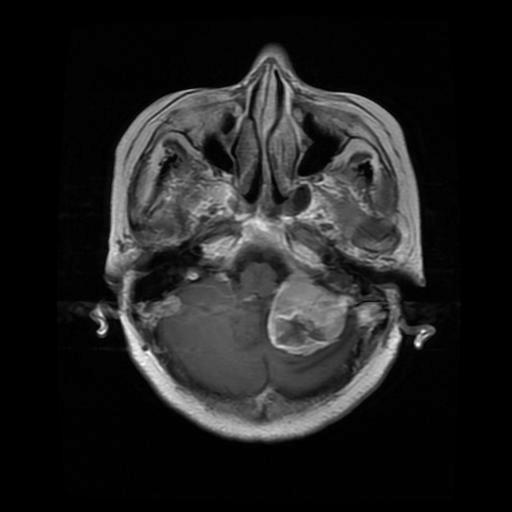Tumour-Meningioma: (243, 271, 361, 363)
